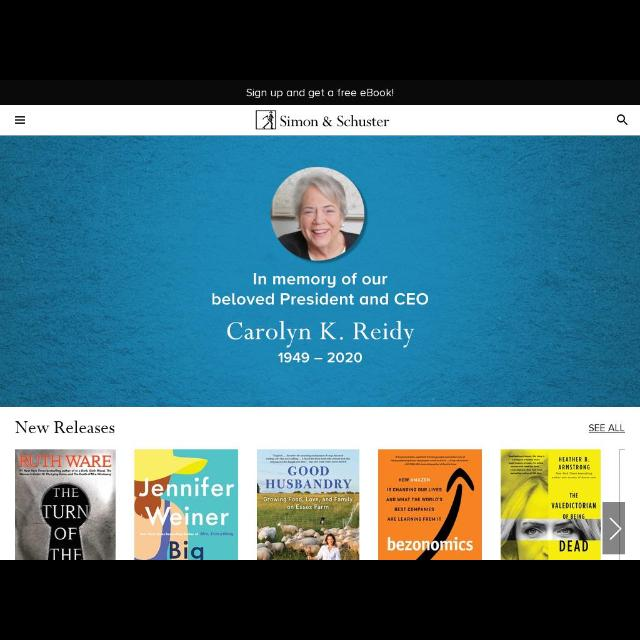button: (603, 503, 625, 555)
icon: (609, 518, 621, 540), (616, 114, 628, 126), (15, 116, 25, 124)
image: (134, 448, 238, 560), (378, 449, 482, 559), (257, 450, 359, 560), (15, 449, 116, 558), (501, 449, 601, 558), (269, 168, 367, 262), (256, 110, 389, 130)
text: (213, 272, 429, 306), (228, 320, 414, 348), (246, 88, 394, 98), (15, 421, 114, 434), (279, 352, 363, 362), (589, 423, 625, 432)
toolbar: (1, 105, 639, 135)
